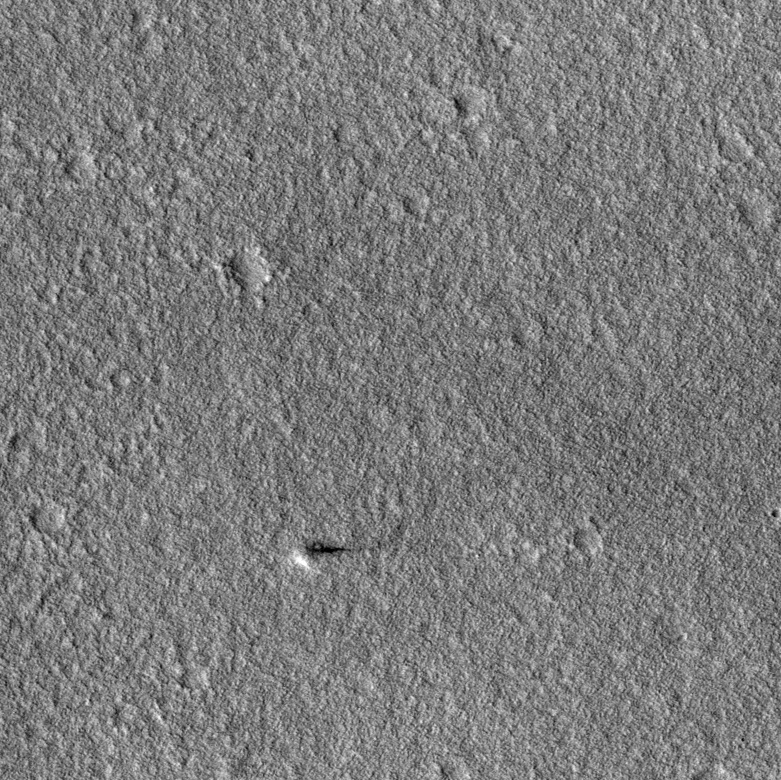dust_devil: (290, 539, 347, 572)
